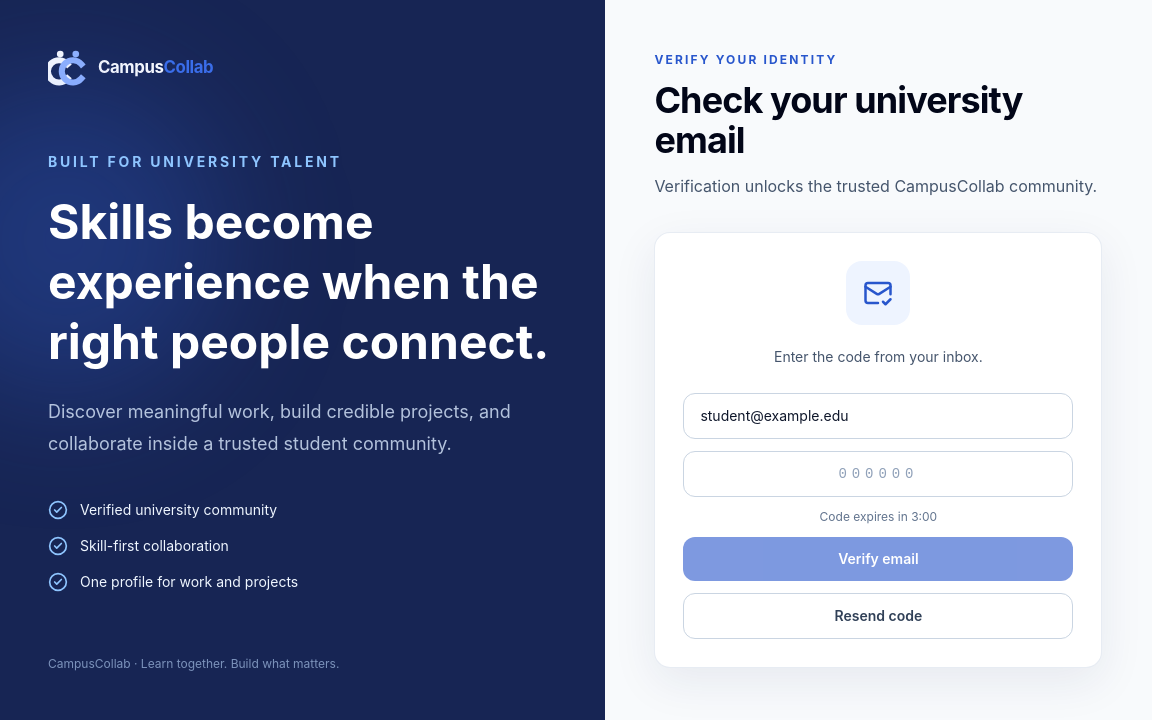
Scenario: university email verification › requests a replacement code for the entered email
Click the button "Resend code": (878, 616) [683,593,1073,639]
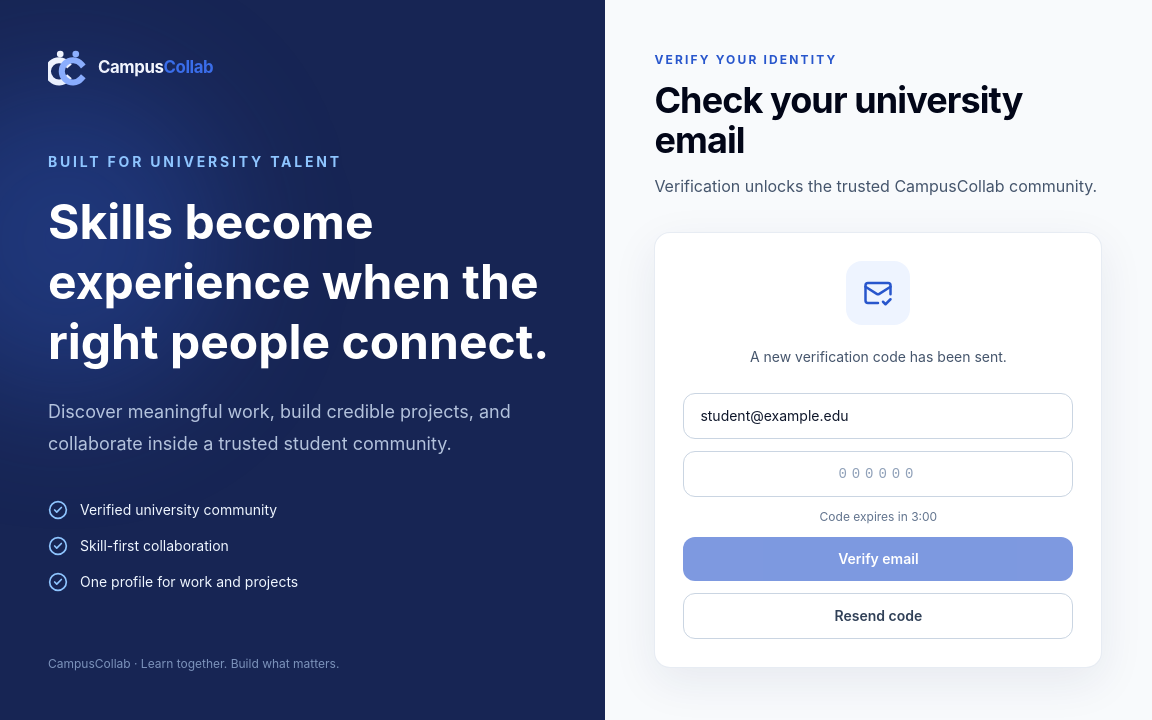
Result: the text "A new verification code has been sent." is shown at [750,348,1007,365]
